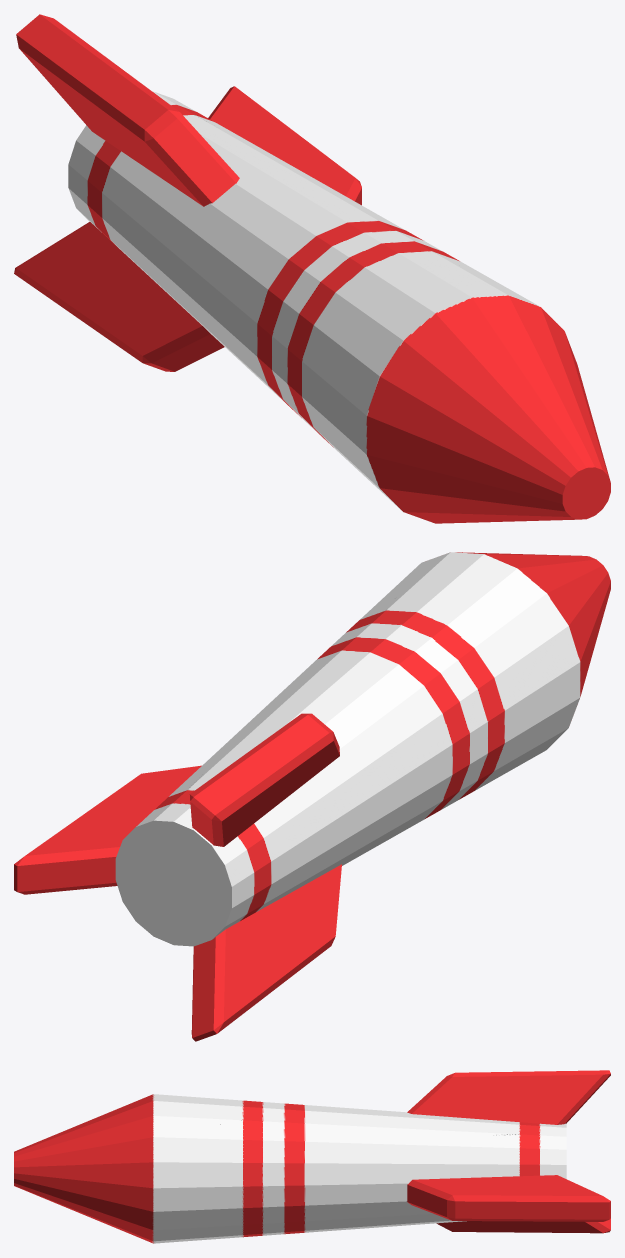
Rendered from Rocket1Red.fbx.
3 renders of one model, top to bottom at view 1: azimuth 30°, elevation 25°; view 2: azimuth 150°, elevation 25°; view 3: azimuth 270°, elevation 25°, orthographic. The views are drawn at different scales.
Visible parts, largest first — view 1: Cylinder.007, Plane.003; view 2: Cylinder.007, Plane.003; view 3: Cylinder.007, Plane.003.
Part boxes in pixels (box(x1,y1,x2,y2)): Cylinder.007: box(68, 91, 610, 523); Plane.003: box(14, 14, 361, 371); Cylinder.007: box(115, 552, 610, 946); Plane.003: box(14, 713, 341, 1041); Cylinder.007: box(14, 1094, 566, 1243); Plane.003: box(407, 1070, 610, 1233).
Bounding box in the file's own units: 0.3665 × 0.3822 × 1.27.
